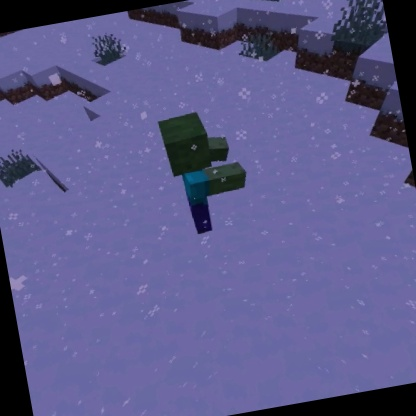zombie: (150, 102, 258, 242)
